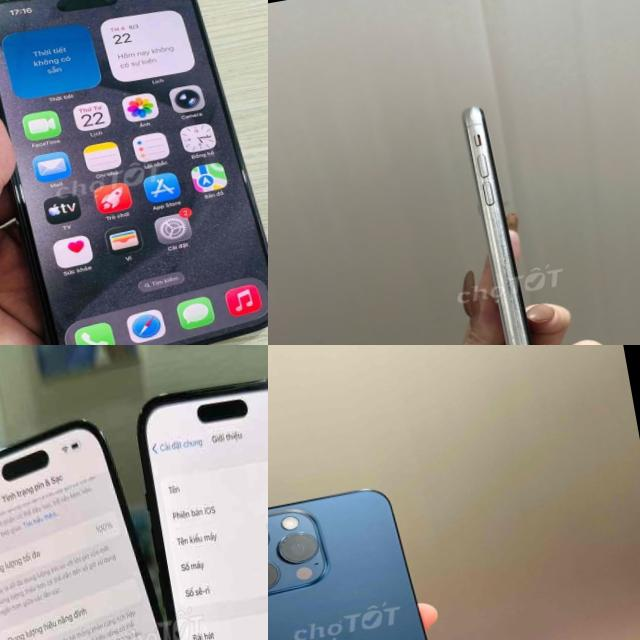scratch: (481, 204, 541, 345), (475, 180, 501, 207)
